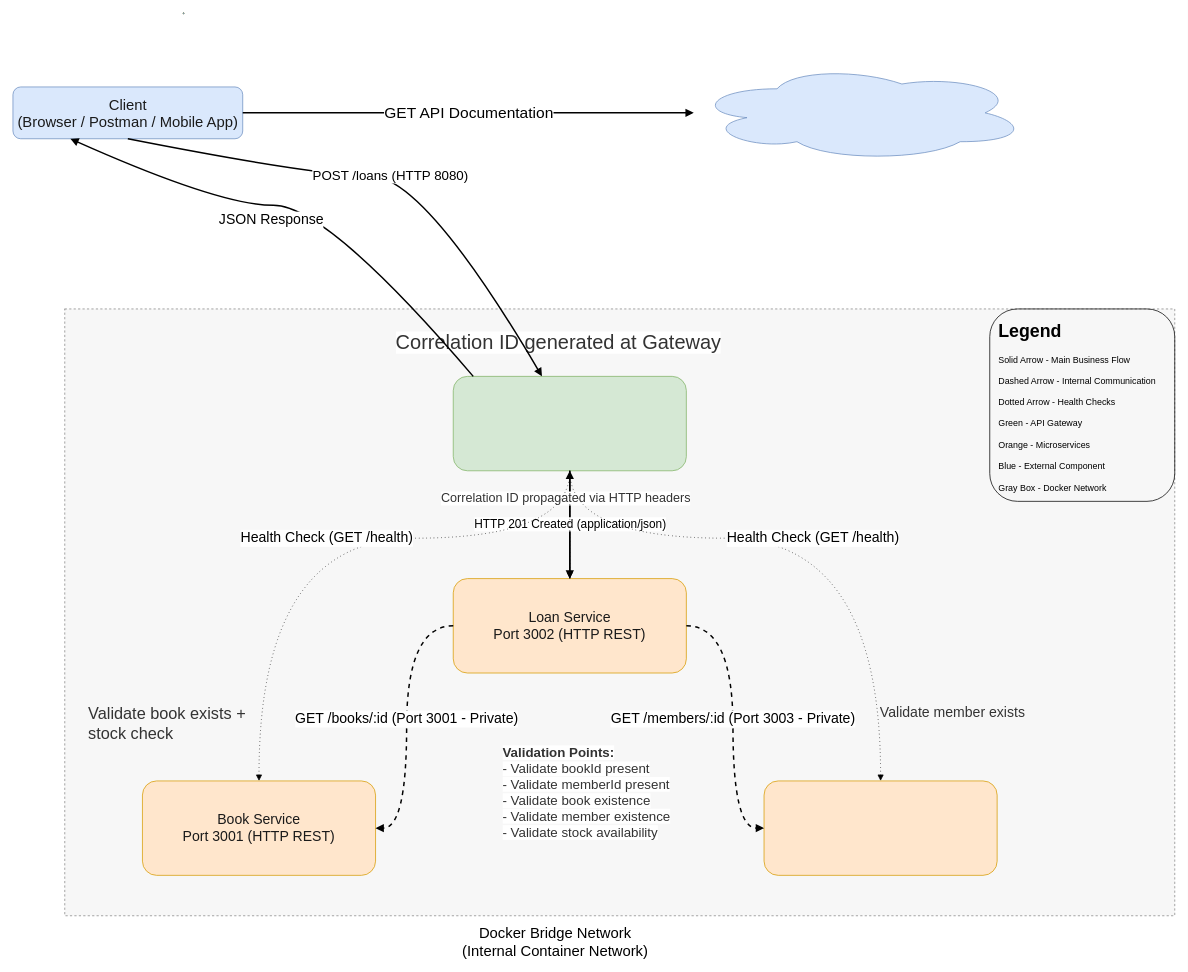
Some shapes in this 1188 by 972 pixel diagram are drawn without their labels. Each missing label, with the centre of its shape:
API Gateway (Nginx) Port 8080 (HTTP): point 569,423
Firebase Hosting (API Documentation) HTTPS: point 860,112
Member Service Port 3003 (HTTP REST): point 880,827
